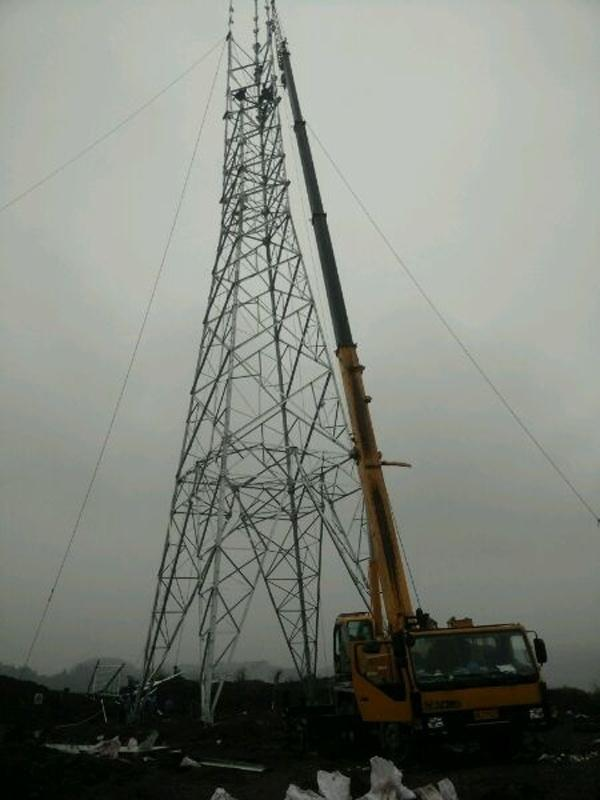power_tower: (161, 13, 346, 719)
